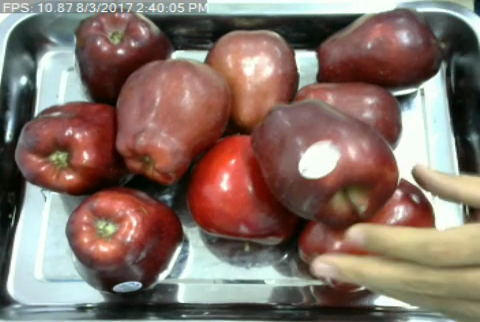Apple: (249, 96, 401, 229), (111, 54, 234, 189), (184, 129, 304, 247), (62, 186, 187, 299), (314, 5, 446, 100), (13, 98, 137, 197), (200, 27, 302, 137), (72, 7, 176, 104)
